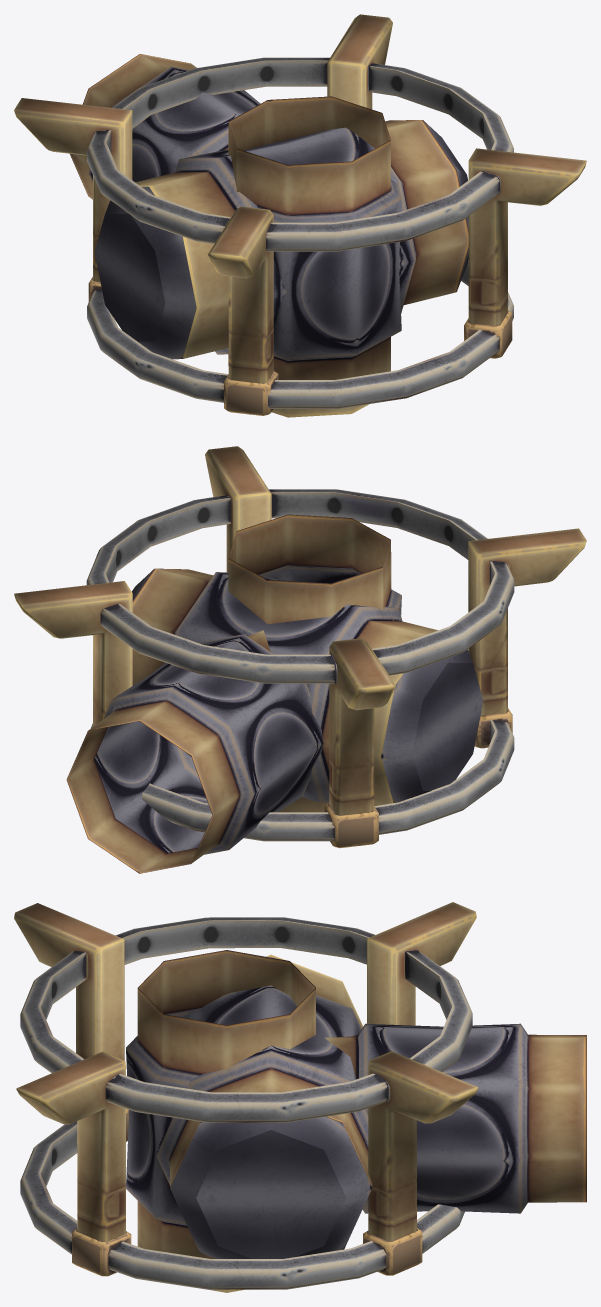
Rendered from SM_CannonCore.FBX.
3 views of the same model, one above another, from view 1: azimuth 30°, elevation 25°; view 2: azimuth 150°, elevation 25°; view 3: azimuth 270°, elevation 25° (orthographic). The views are drawn at different scales.
Parts seen in each view (by area): view 1: Cannon_Core; view 2: Cannon_Core; view 3: Cannon_Core.
Part boxes in pixels (box(x1,y1,x2,y2)): Cannon_Core: box(14, 14, 586, 417); Cannon_Core: box(14, 446, 586, 873); Cannon_Core: box(14, 902, 586, 1292).
Size of the model in its own units: 456 by 289 by 561.
1 material, 1 textured.
